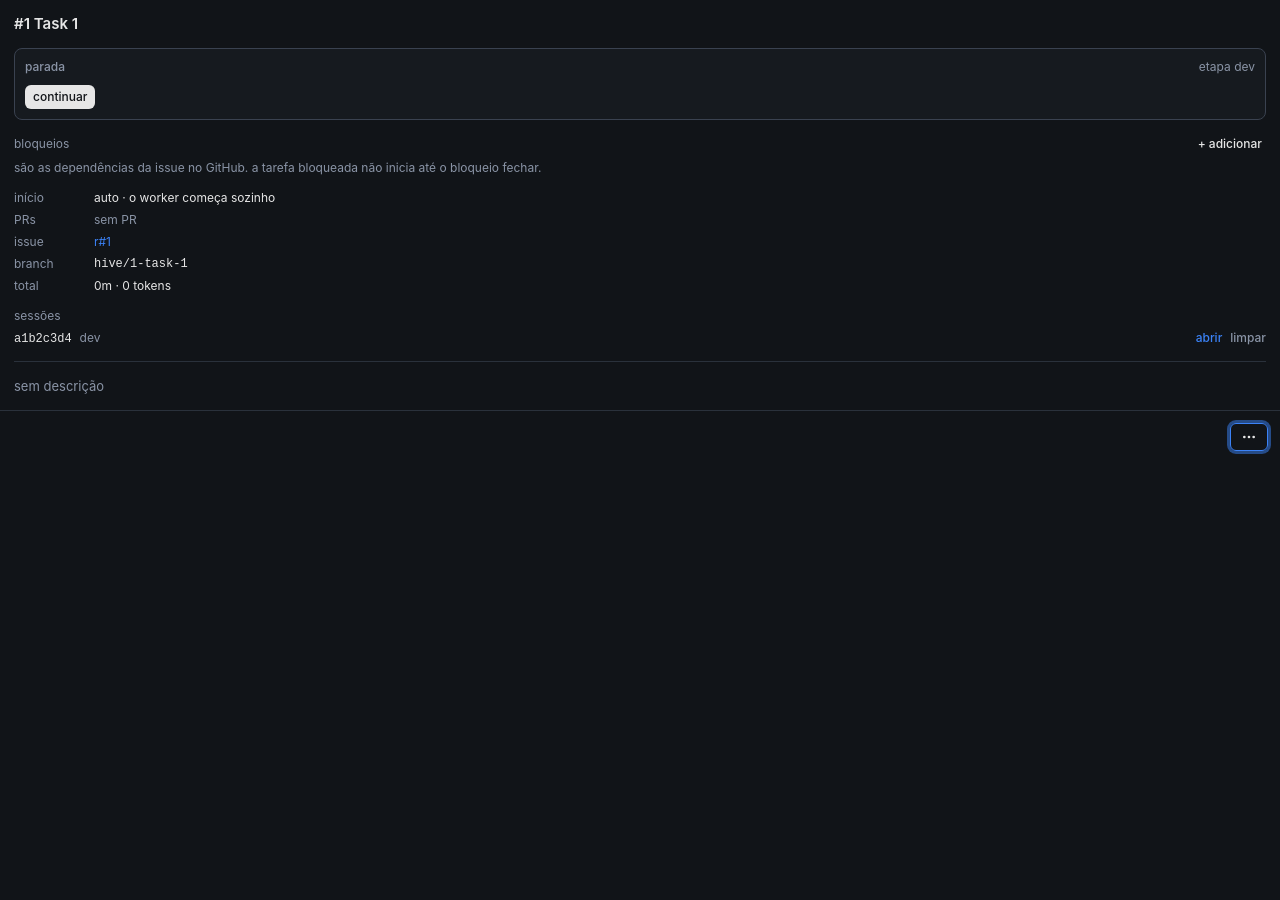
Test: forçar closes the popup and posts again with force true (#182)
Press Enter
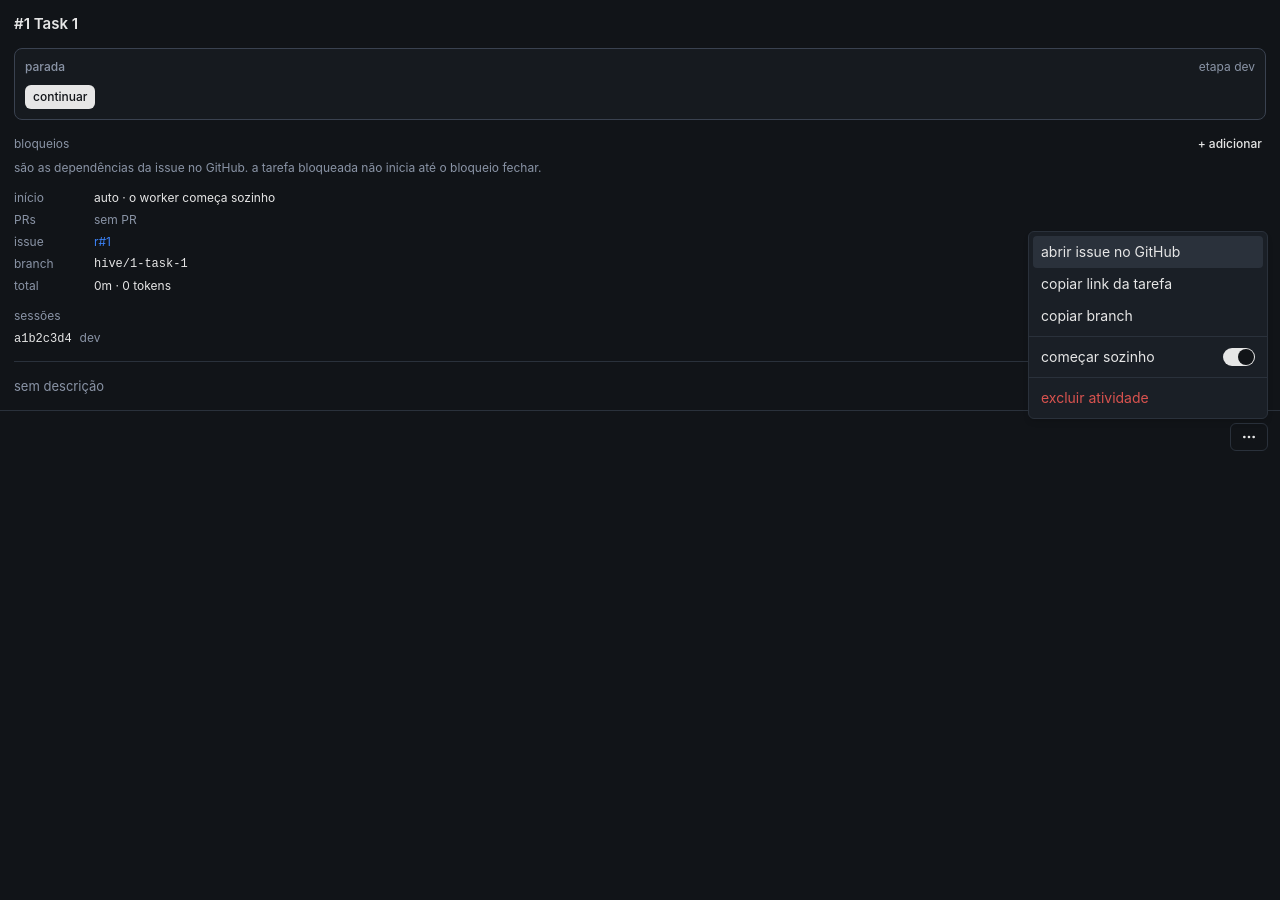
Click the menu item "excluir atividade" at (1095, 398), box [1041,389,1149,406]
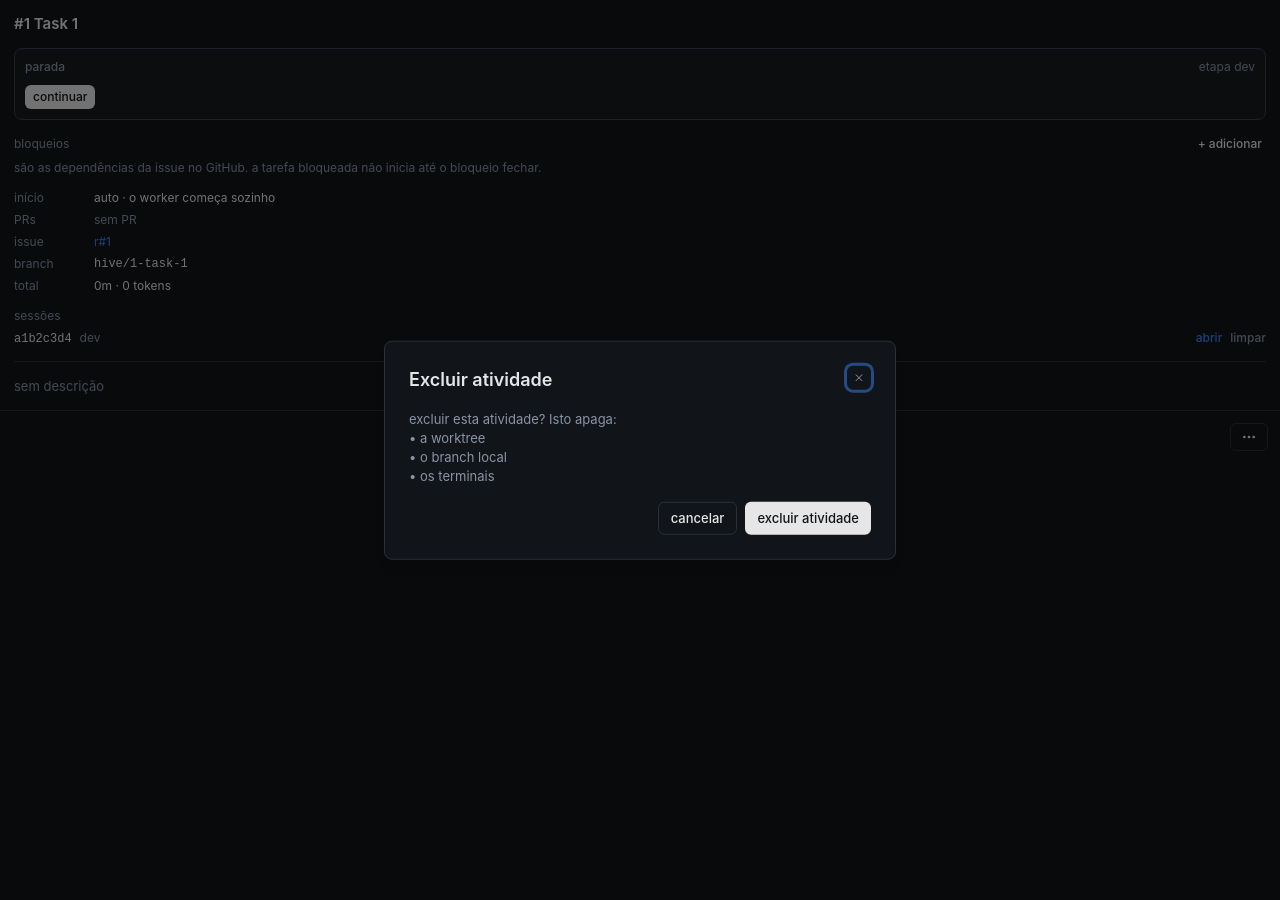
Click the button "excluir atividade" at (808, 518), box [745,502,871,534]
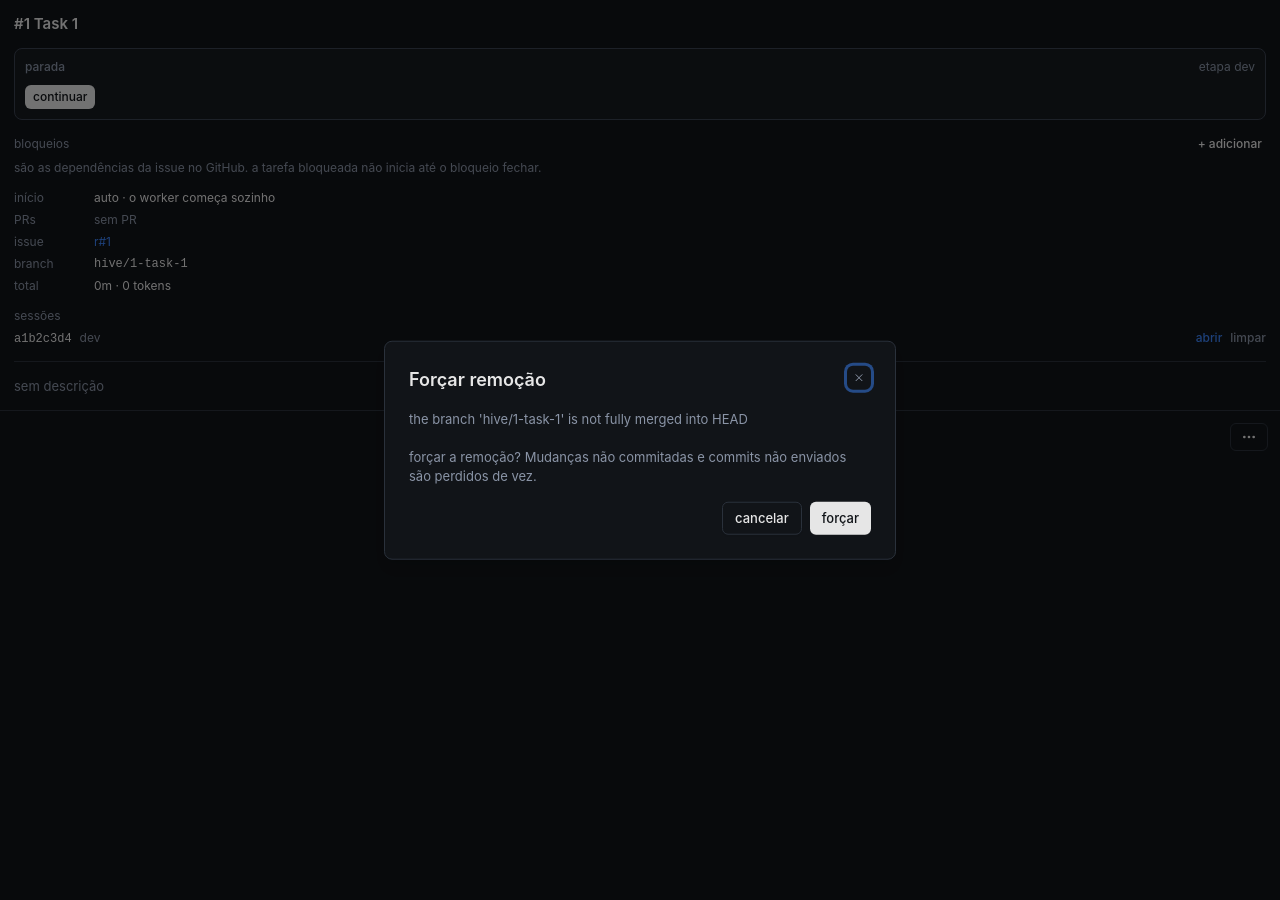
Click the button "forçar" at (840, 518), box [810,502,871,534]
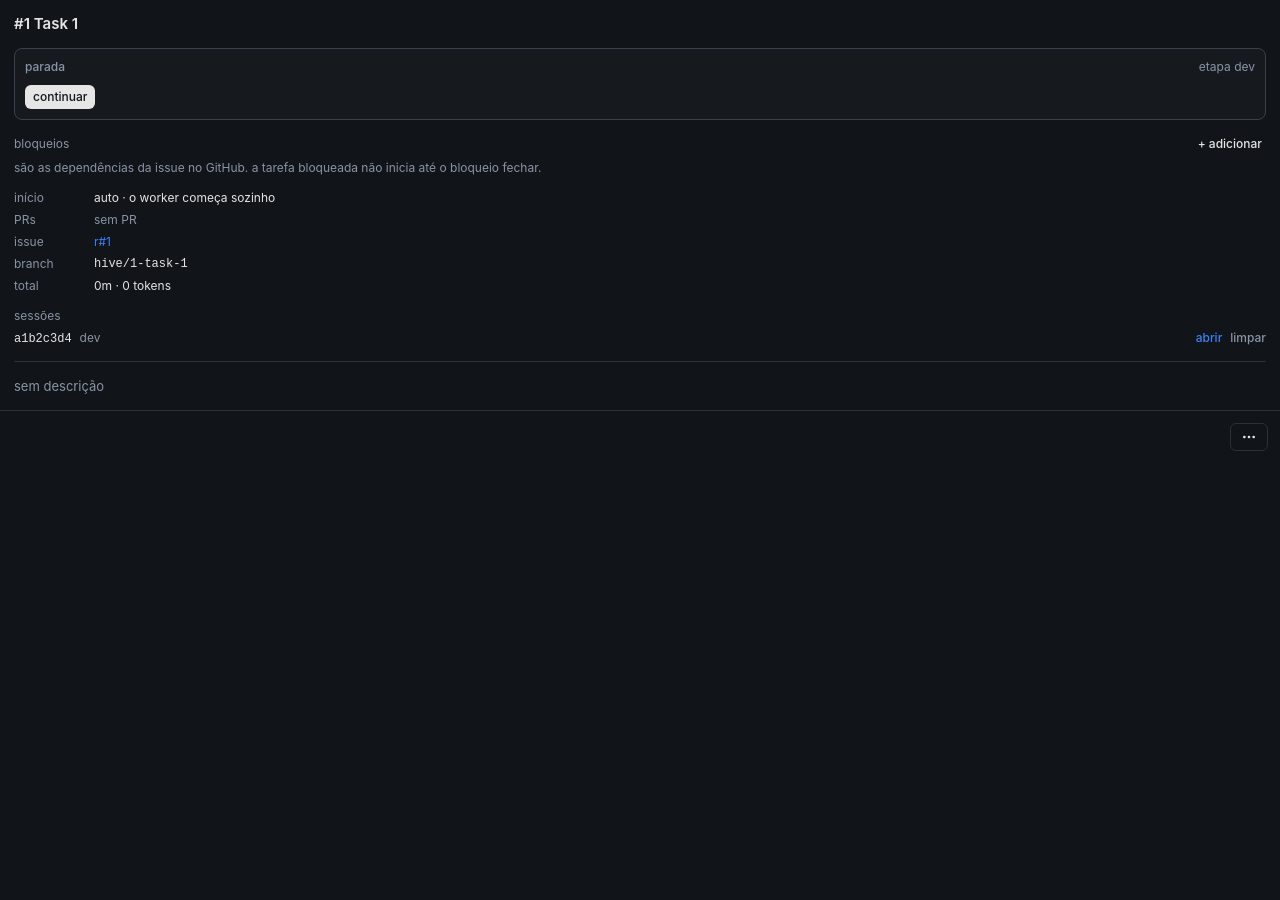
Expected: the dialog is gone
